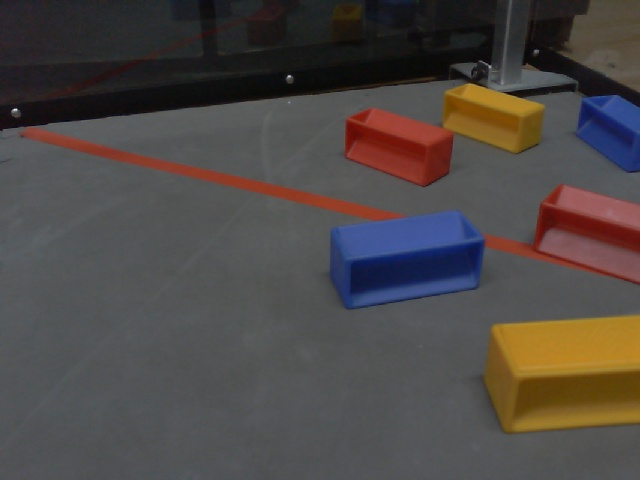BlueSample: (325, 209, 487, 305), (573, 92, 640, 173)
RedSample: (533, 176, 640, 285), (341, 104, 455, 186)
YellowSample: (489, 313, 640, 443), (442, 81, 546, 155)
